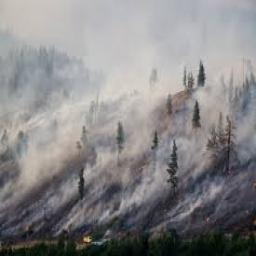Low smoke: (0, 0, 256, 229)
